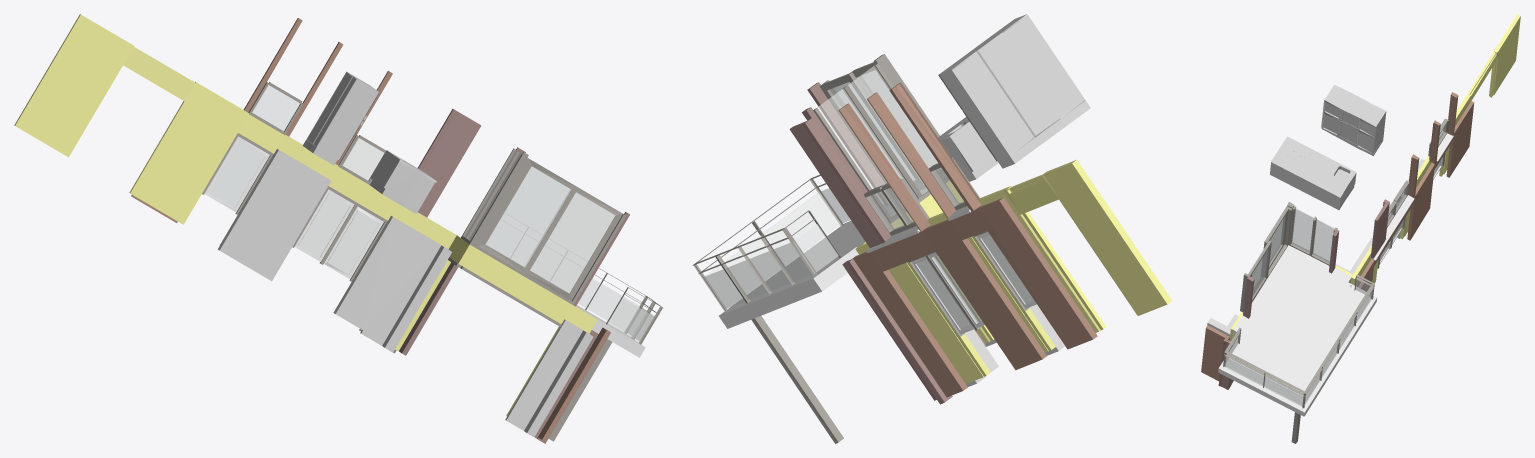
The picture shows the model from 3 angles, left to right: view 1: azimuth 30°, elevation 25°; view 2: azimuth 150°, elevation 25°; view 3: azimuth 270°, elevation 25°; orthographic projection. The views are drawn at different scales.
Parts seen in each view (by area): view 1: mesh; view 2: mesh; view 3: mesh.
Boxes of the visible parts, x1,y1,x2,y2 form: mesh: (14, 14, 663, 443); mesh: (692, 14, 1172, 443); mesh: (1201, 14, 1520, 443).
Size of the model in its own units: 13.33 by 10.24 by 9.66.
